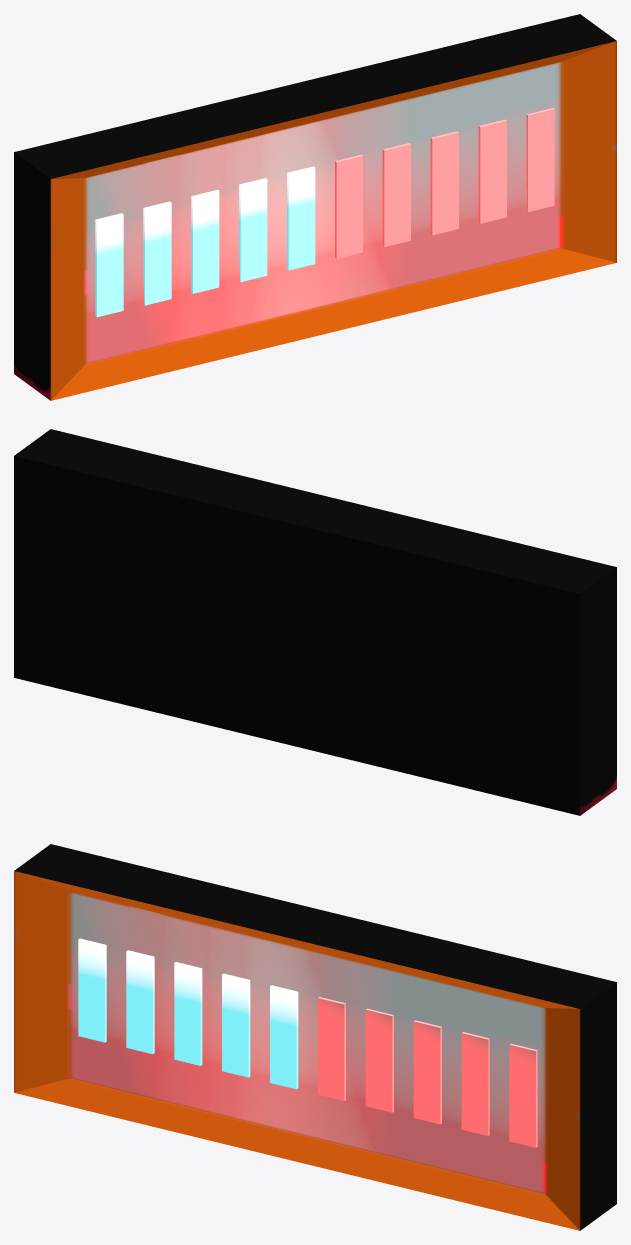
The model's file is screen.glb.
3 views of the same model, one above another, from view 1: azimuth 30°, elevation 25°; view 2: azimuth 150°, elevation 25°; view 3: azimuth 330°, elevation 25° (orthographic).
Parts seen in each view (by area): view 1: 立方体, 立方体.005, 立方体.003, 立方体.009, 立方体.001, 立方体.007, 立方体.008, 立方体.004, 立方体.002, 立方体.010, 立方体.006; view 2: 立方体; view 3: 立方体, 立方体.001, 立方体.004, 立方体.008, 立方体.005, 立方体.007, 立方体.010, 立方体.002, 立方体.003, 立方体.009, 立方体.006.
Boxes of the visible parts, <box> form: 立方体: <box>14,14,616,400</box>; 立方体.005: <box>287,166,315,270</box>; 立方体.003: <box>191,189,219,293</box>; 立方体.009: <box>478,119,506,223</box>; 立方体.001: <box>95,213,123,317</box>; 立方体.007: <box>382,143,410,246</box>; 立方体.008: <box>430,131,458,235</box>; 立方体.004: <box>239,178,267,281</box>; 立方体.002: <box>143,201,171,305</box>; 立方体.010: <box>526,108,554,211</box>; 立方体.006: <box>335,154,362,258</box>; 立方体: <box>14,429,616,815</box>; 立方体: <box>14,844,616,1230</box>; 立方体.001: <box>78,938,106,1042</box>; 立方体.004: <box>222,973,250,1077</box>; 立方体.008: <box>413,1020,441,1124</box>; 立方体.005: <box>270,985,298,1089</box>; 立方体.007: <box>365,1008,393,1112</box>; 立方体.010: <box>509,1043,537,1147</box>; 立方体.002: <box>126,950,154,1054</box>; 立方体.003: <box>174,962,202,1065</box>; 立方体.009: <box>461,1032,489,1135</box>; 立方体.006: <box>318,997,345,1100</box>.
Bounding box in the file's own units: 8.43 × 3.16 × 0.9493.
Materials: 3 (1 with a texture image).
